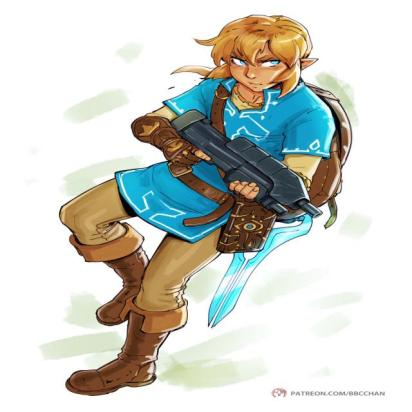Gun: (171, 106, 323, 224)
